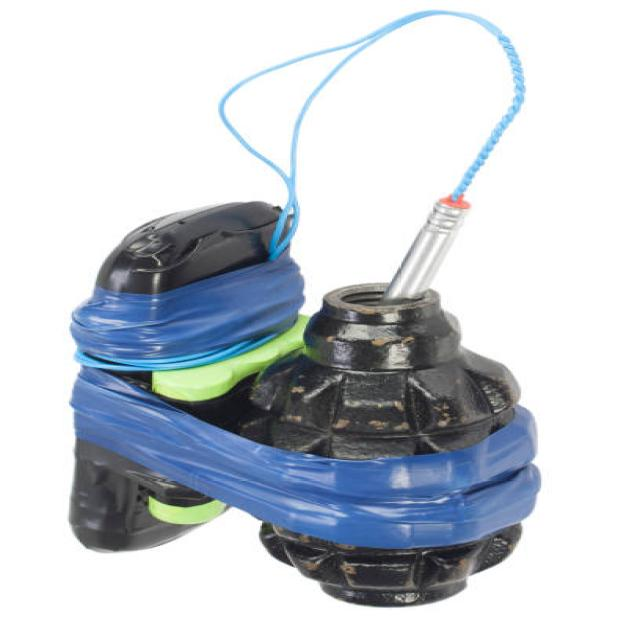grenade: (229, 280, 542, 607)
